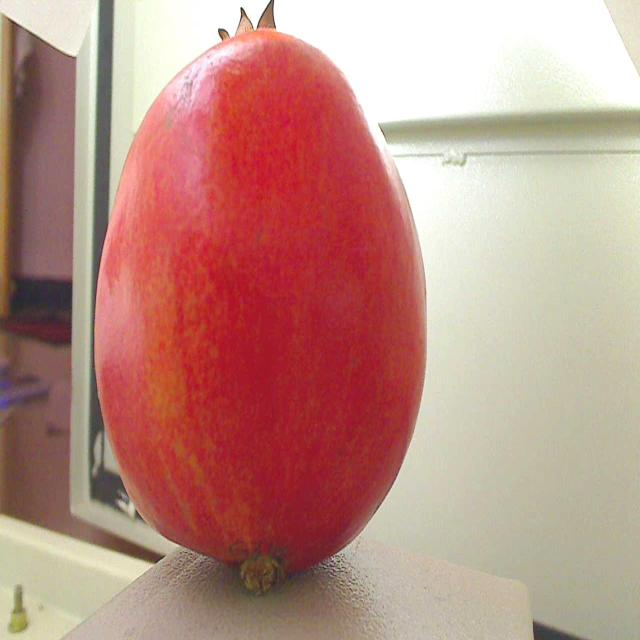pomegranate: (84, 0, 436, 610)
